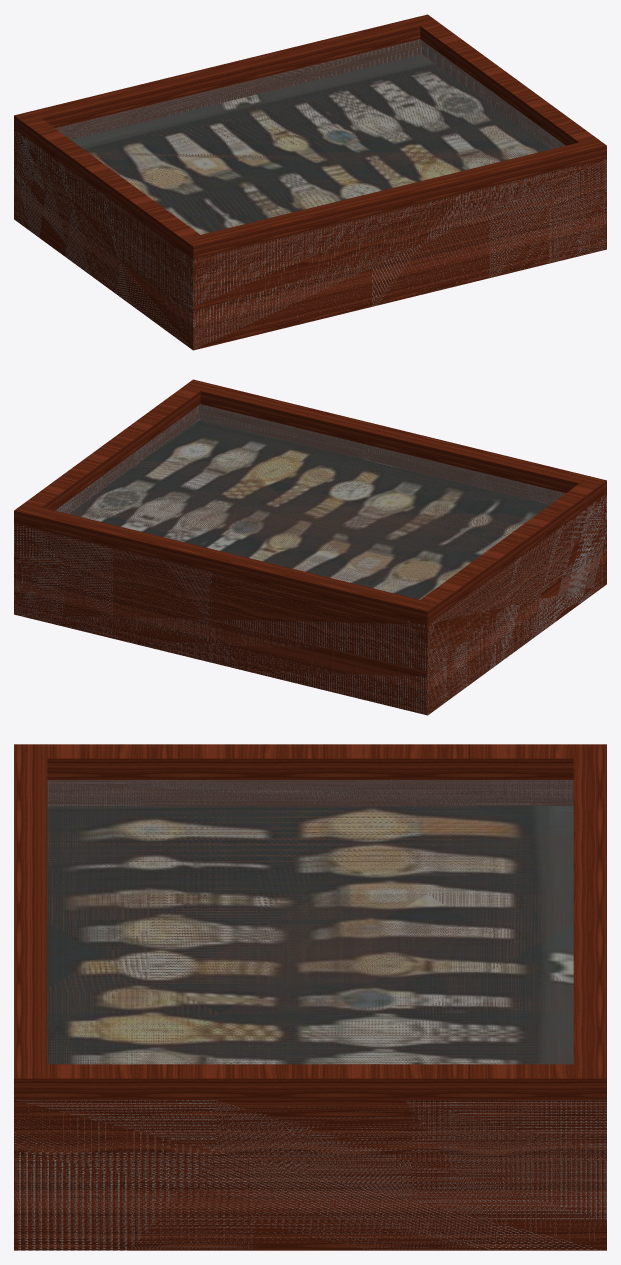
Rendered from WatchBox.dae.
The picture shows the model from 3 angles, top to bottom: view 1: azimuth 30°, elevation 25°; view 2: azimuth 150°, elevation 25°; view 3: azimuth 270°, elevation 25°; orthographic projection. The views are drawn at different scales.
Visible parts, largest first — view 1: SketchUp (×4), group_0 (×2); view 2: SketchUp (×4), group_0 (×2); view 3: SketchUp (×4), group_0 (×2).
Boxes of the visible parts, bbox=[...] form: SketchUp (×4): bbox=[14, 39, 606, 350]; group_0 (×2): bbox=[14, 14, 606, 259]; SketchUp (×4): bbox=[14, 404, 606, 715]; group_0 (×2): bbox=[14, 379, 606, 624]; SketchUp (×4): bbox=[14, 780, 606, 1250]; group_0 (×2): bbox=[14, 744, 606, 1099].
Size of the model in its own units: 39.37 by 29.53 by 9.45.
